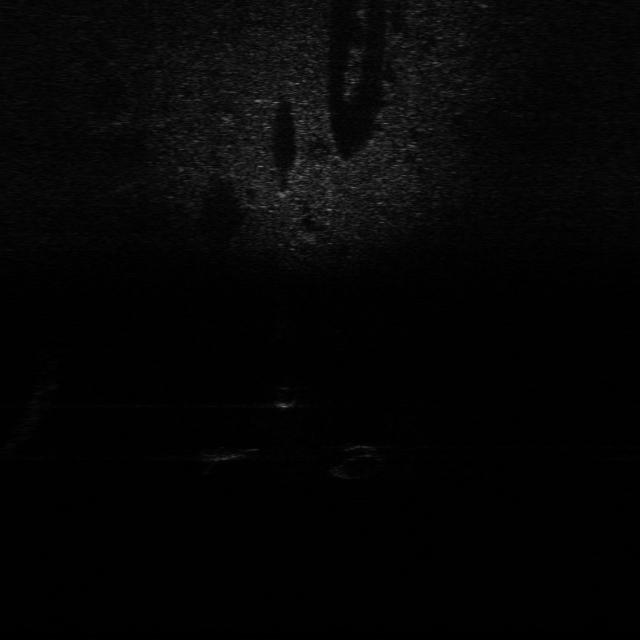ball: (267, 384, 301, 410)
square cage: (197, 440, 262, 464)
tyre: (324, 440, 390, 483)
